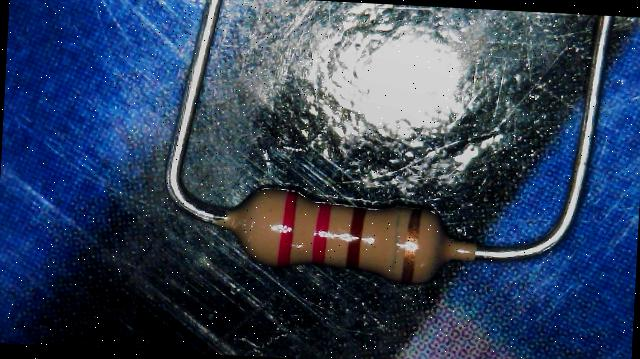brown: (346, 205, 366, 271)
gold: (401, 205, 420, 281)
red: (278, 188, 298, 266), (314, 202, 328, 262)
resistor: (202, 153, 482, 309)
